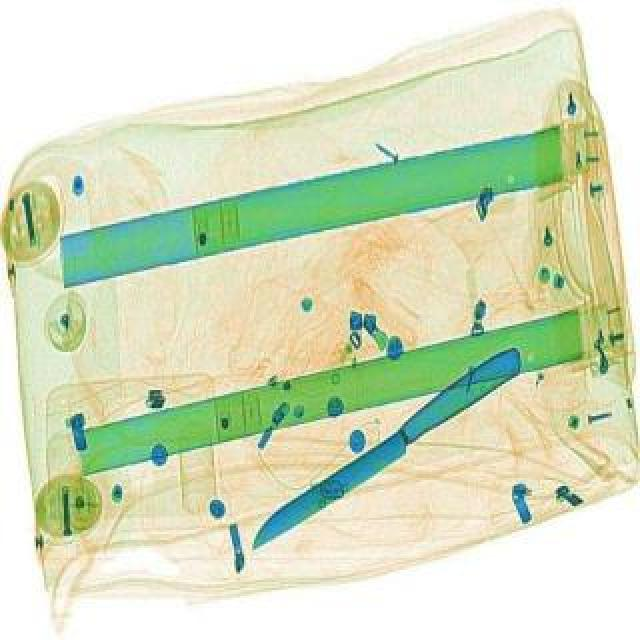knife: (234, 338, 534, 550)
